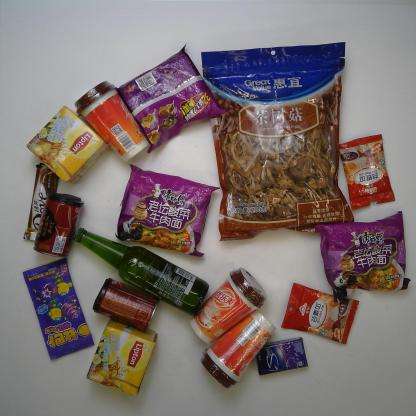Alcohol: (71, 225, 209, 315)
Candy: (21, 257, 98, 364)
Canned Food: (92, 278, 159, 330), (31, 193, 85, 257)
Chocolate: (22, 162, 59, 244)
Dried Food: (197, 41, 355, 244)
Gum: (253, 336, 309, 376)
Instant Drink: (27, 105, 109, 184), (200, 308, 276, 388), (74, 81, 150, 161), (187, 267, 267, 341), (85, 318, 160, 396), (280, 281, 360, 345), (336, 133, 396, 209)
Instant Noodles: (112, 43, 227, 157), (114, 162, 220, 260), (314, 210, 410, 303)
